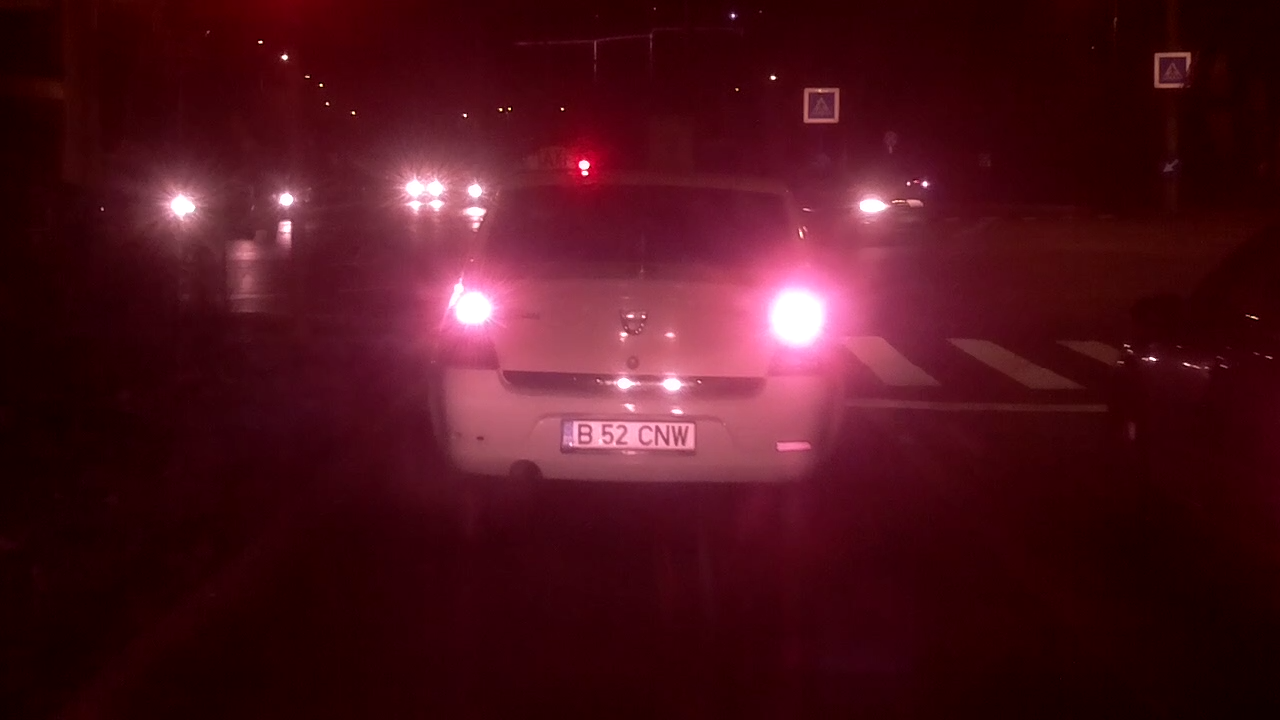license-plate: (556, 414, 701, 454)
